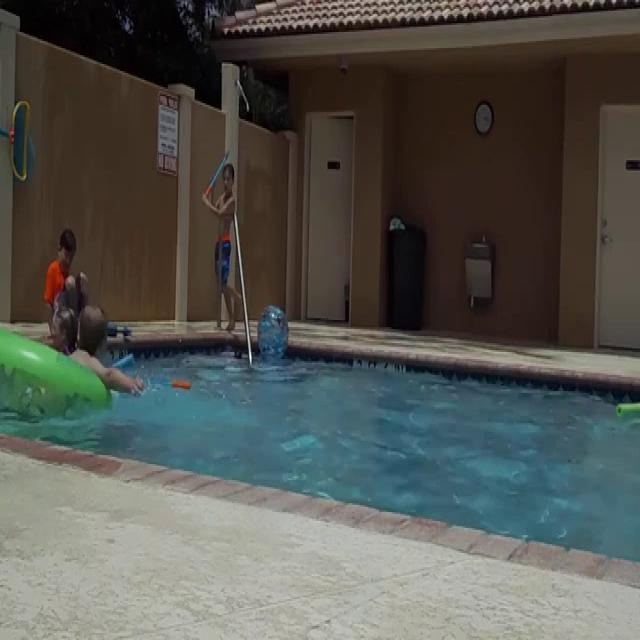adult: (49, 310, 79, 356)
child: (70, 307, 142, 420), (205, 160, 244, 332), (44, 226, 86, 328)
